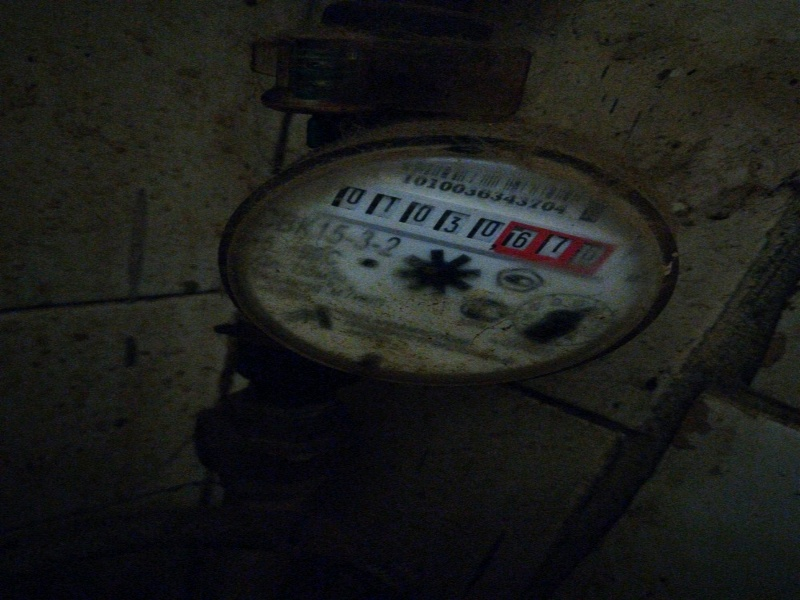meter: (337, 185, 607, 270)
